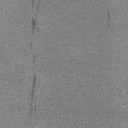red iron: (30, 77, 36, 114), (30, 16, 36, 34), (106, 10, 110, 28), (36, 0, 40, 10), (32, 0, 34, 7), (34, 55, 36, 62)
